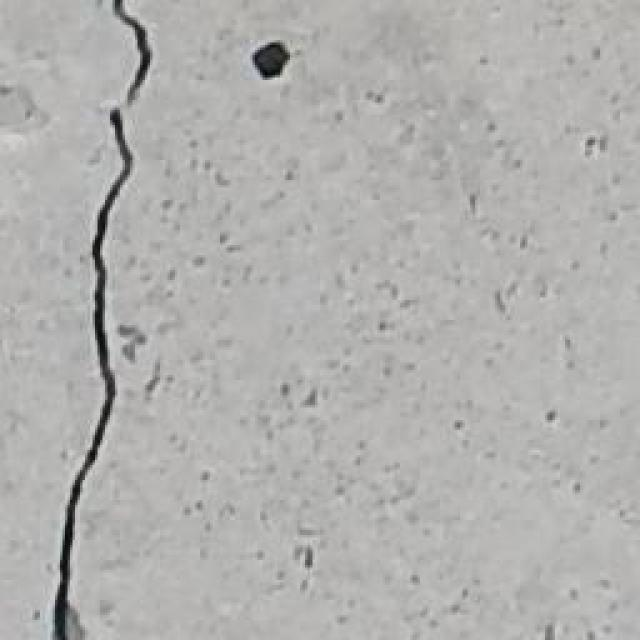concrete-crack: (52, 0, 158, 640), (242, 35, 292, 82)
